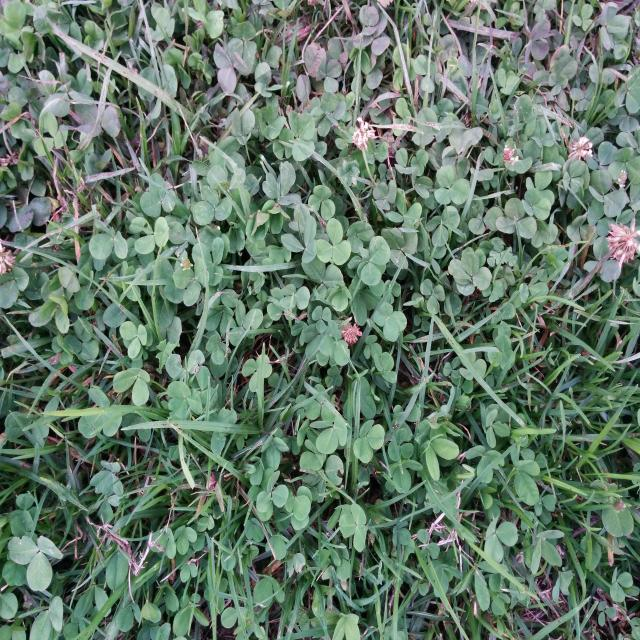Four Leaf Clover: (373, 301, 407, 342)
